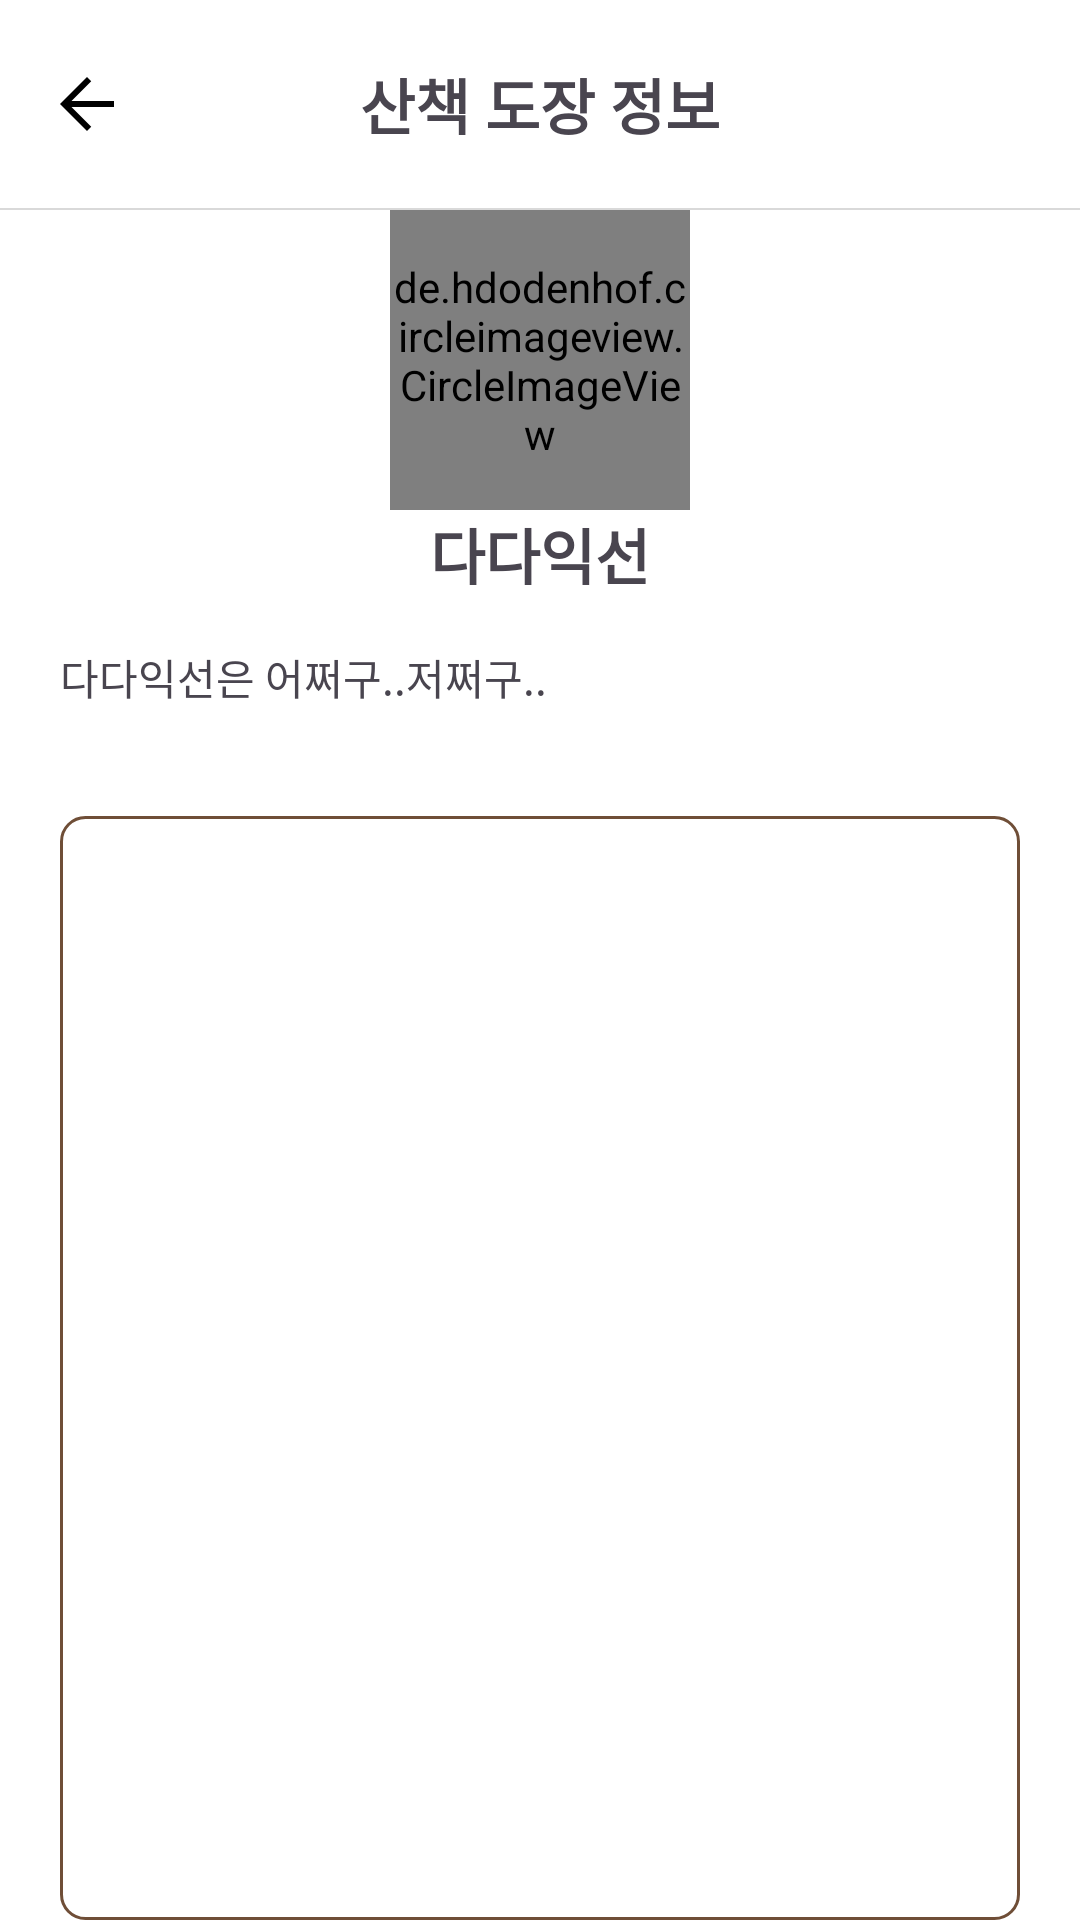

Icons on this 1080*1920 Android screen, each with the point to tap as [x,y]:
back: [87,104]
